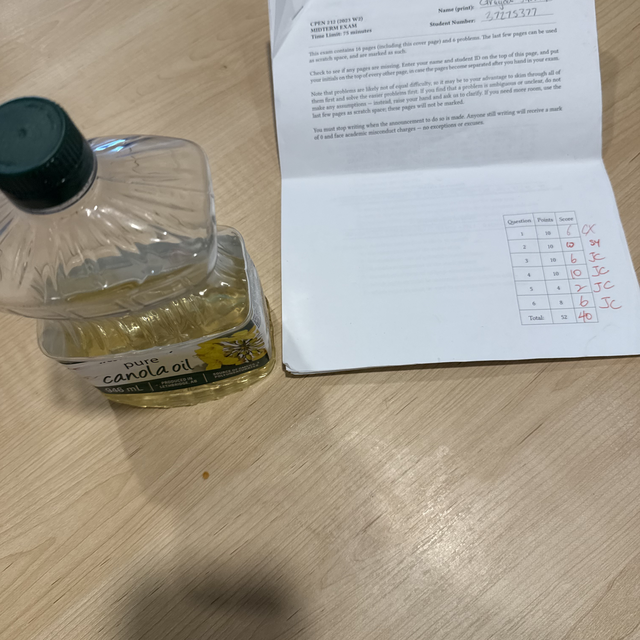Canola Oil: (10, 91, 280, 424)
Paper: (244, 3, 633, 385)
